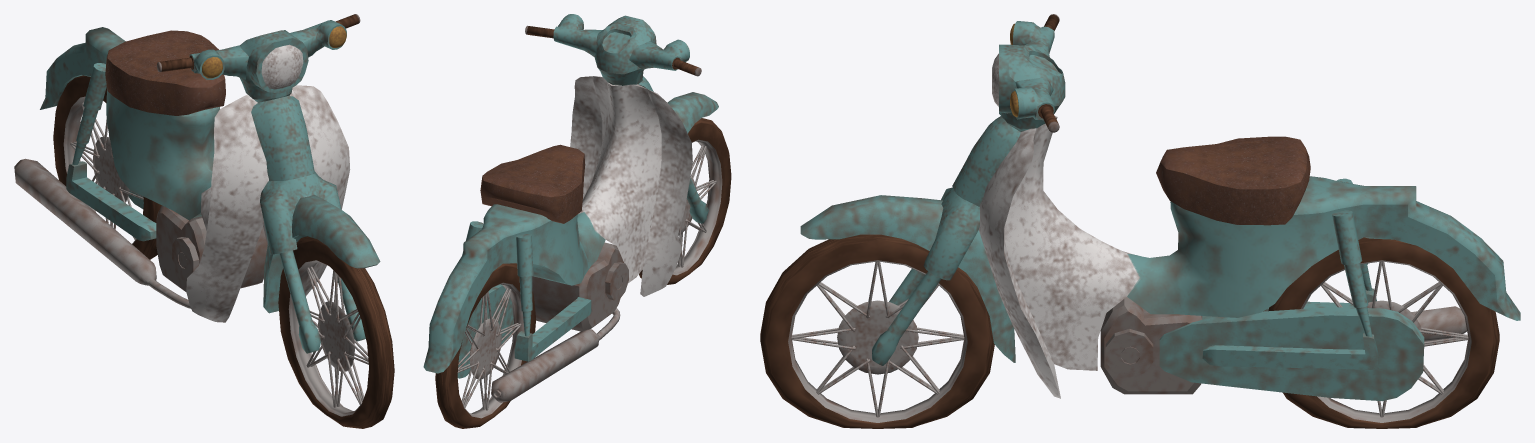
The model's file is Motorcycle.fbx.
3 renders of one model, left to right at view 1: azimuth 30°, elevation 25°; view 2: azimuth 150°, elevation 25°; view 3: azimuth 270°, elevation 25°, orthographic. The views are drawn at different scales.
Parts seen in each view (by area): view 1: Motorcycle; view 2: Motorcycle; view 3: Motorcycle.
Part boxes in pixels (x1,y1,x2,y2): Motorcycle: (14, 14, 394, 428); Motorcycle: (423, 14, 731, 428); Motorcycle: (760, 14, 1520, 428).
Bounding box in the file's own units: 112 × 179 × 328.
Materials: 1 (1 with a texture image).
